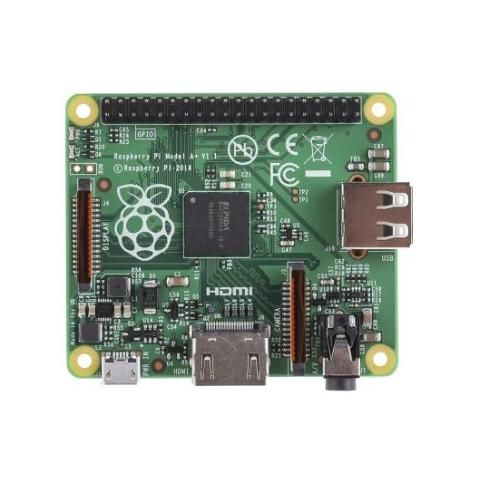Raspberry-Pi-1-Model-A-: (51, 80, 427, 400)
